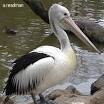pelican: (8, 5, 103, 104)
